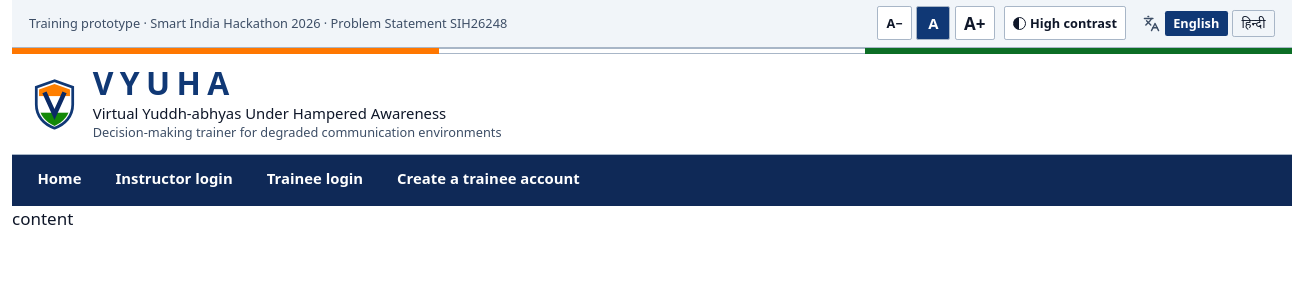
reader controls › make the text larger or smaller, stop at the limits, and remember the choice
Click the button named "Increase text size" at (975, 23), box [955,6,995,40]
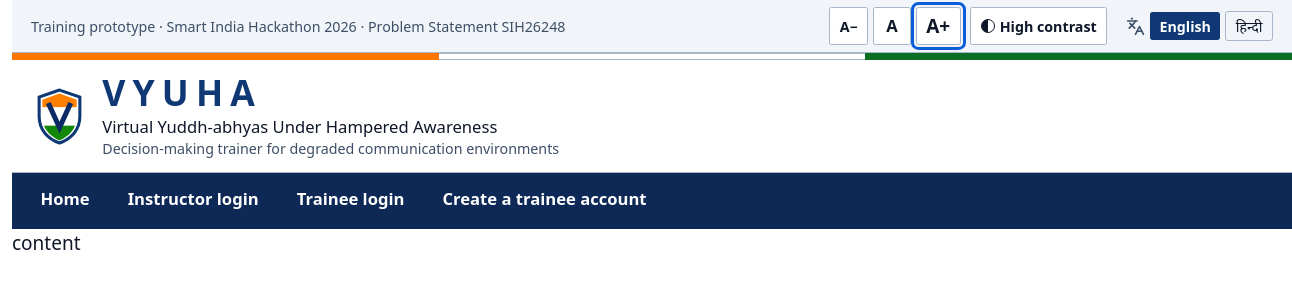
Click the button named "Increase text size" at (938, 26), box [916,7,961,45]
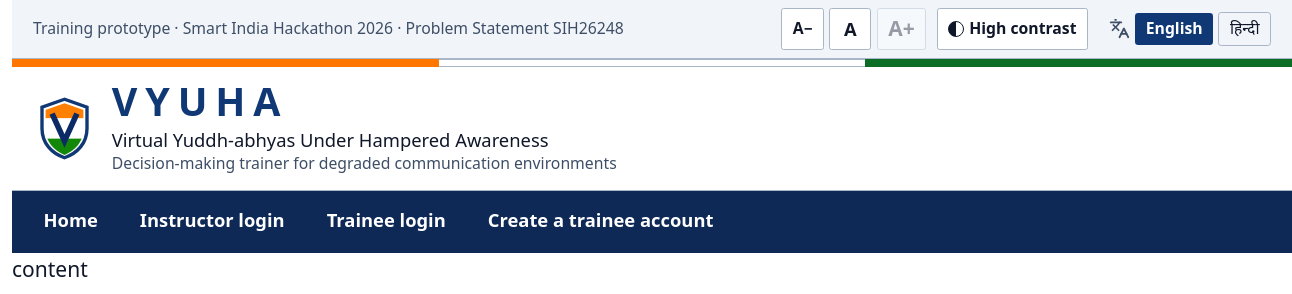
Check: the button named "Increase text size" is disabled, box [877,8,926,50]
Click the button named "Default text size" at (850, 29), box [829,8,871,50]
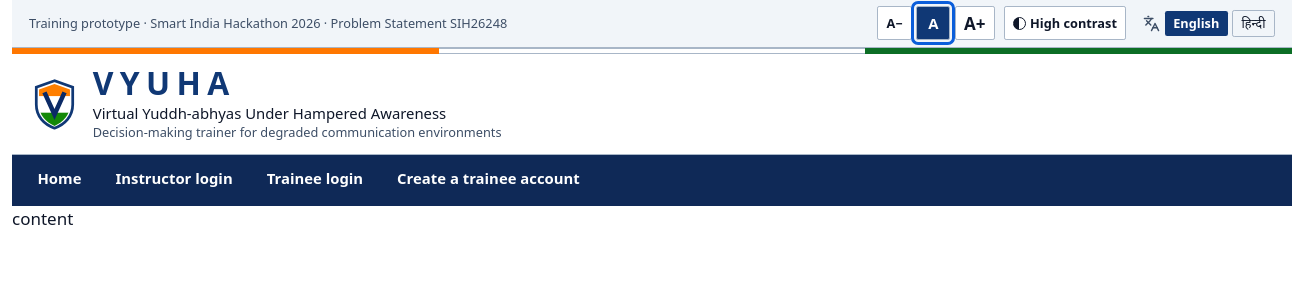
Click the button named "Decrease text size" at (895, 23), box [877,6,912,40]
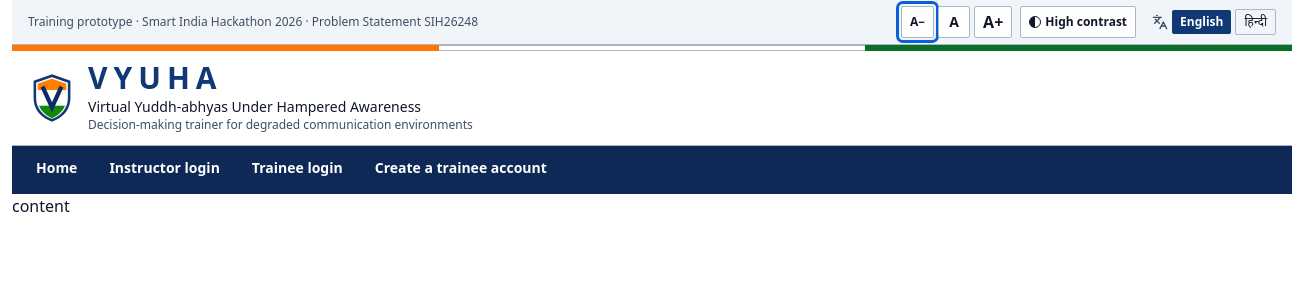
Click the button named "Decrease text size" at (918, 22), box [901,6,934,38]
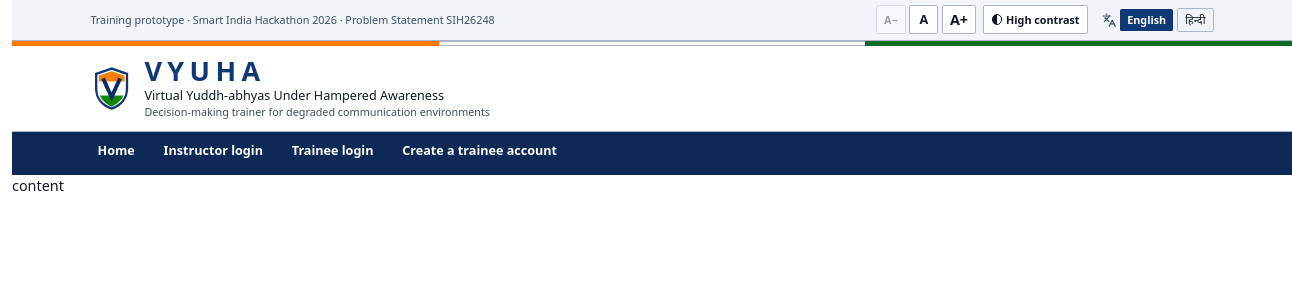
Check: the button named "Decrease text size" is disabled, box [876,5,906,34]
